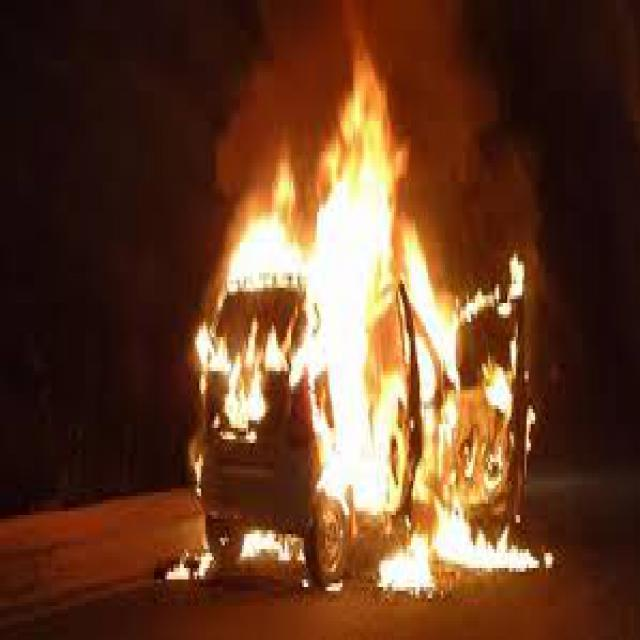Fire: (201, 137, 530, 606)
Smoke: (183, 17, 515, 182)
